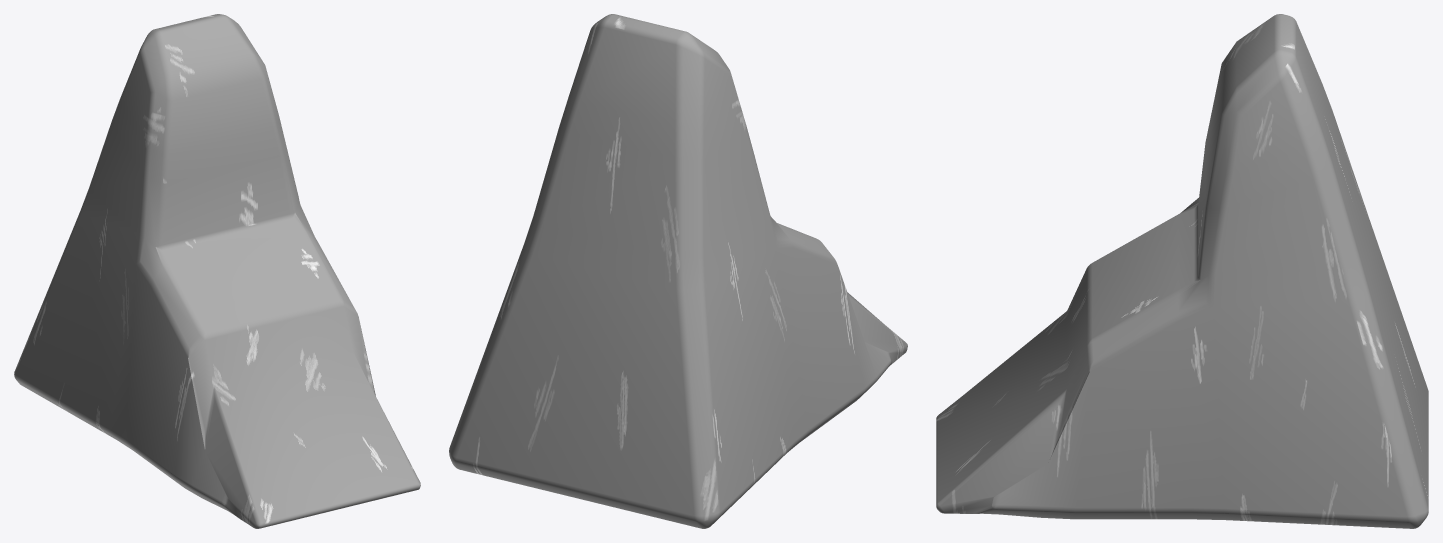
The model's file is kakailloux.fbx.
3 renders of one model, left to right at view 1: azimuth 30°, elevation 25°; view 2: azimuth 150°, elevation 25°; view 3: azimuth 270°, elevation 25°, orthographic. The views are drawn at different scales.
Visible parts, largest first — view 1: Kakailloux 1; view 2: Kakailloux 1; view 3: Kakailloux 1.
Part boxes in pixels (x1,y1,x2,y2): Kakailloux 1: (14, 14, 420, 528); Kakailloux 1: (449, 14, 907, 528); Kakailloux 1: (936, 14, 1428, 528).
Bounding box in the file's own units: 99.86 × 152 × 155.
1 material, 1 textured.
